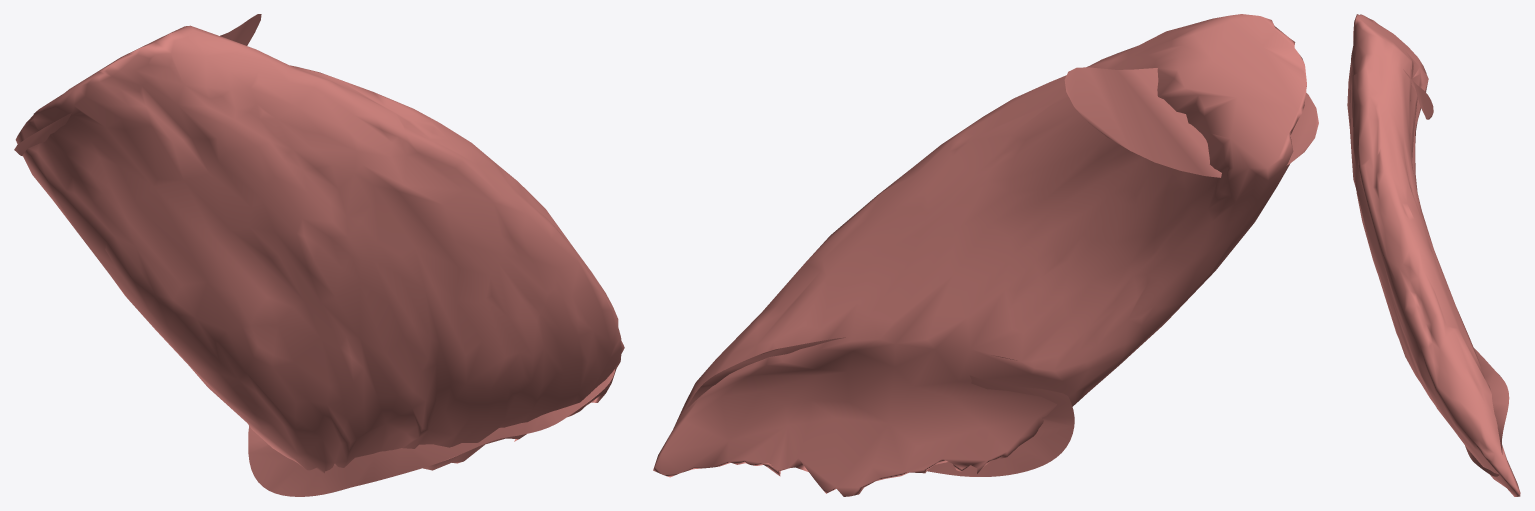
File: fma46314_mm1312.glb
The picture shows the model from 3 angles, left to right: view 1: azimuth 30°, elevation 25°; view 2: azimuth 150°, elevation 25°; view 3: azimuth 270°, elevation 25°; orthographic projection. The views are drawn at different scales.
Parts seen in each view (by area): view 1: FMA46314_MM1312; view 2: FMA46314_MM1312; view 3: FMA46314_MM1312.
Boxes of the visible parts, x1,y1,x2,y2 form: FMA46314_MM1312: (14, 14, 624, 496); FMA46314_MM1312: (653, 14, 1318, 496); FMA46314_MM1312: (1347, 14, 1520, 496).
Bounding box in the file's own units: 0.0262 × 0.0217 × 0.0104.
